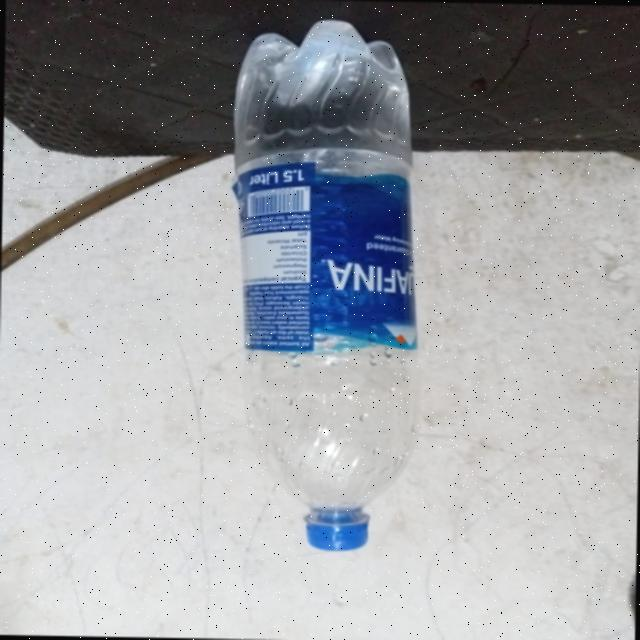bottle: (215, 15, 457, 579)
cap: (293, 500, 384, 553)
label: (218, 144, 442, 370)
